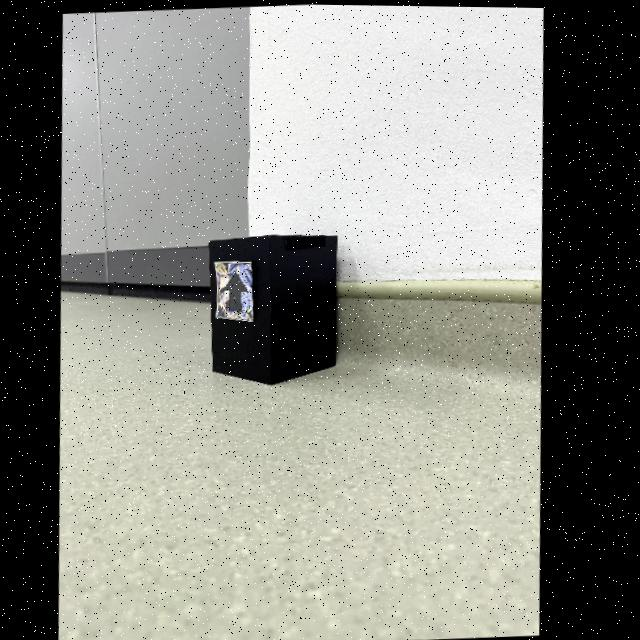UP: (226, 270, 253, 312)
